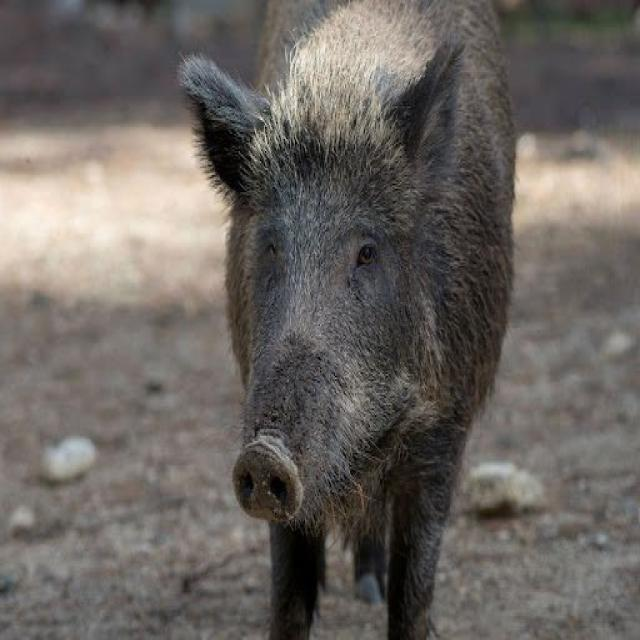Boar: (176, 11, 528, 640)
